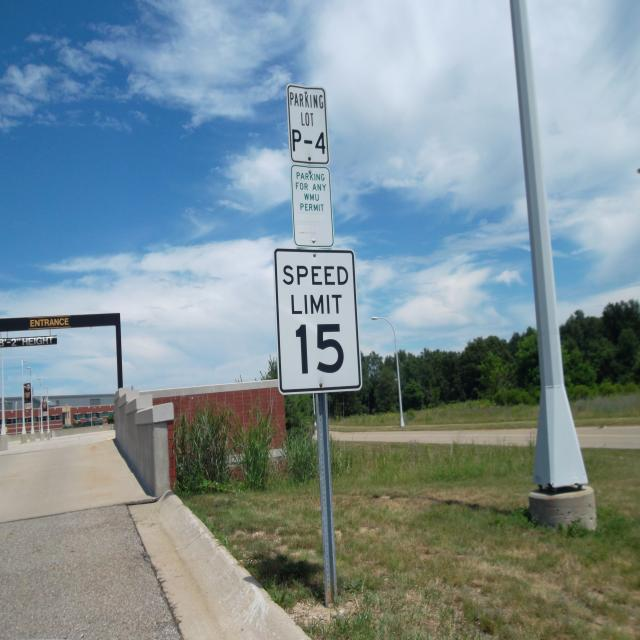regulatory: (273, 241, 363, 391), (286, 155, 343, 252), (282, 64, 331, 168)
